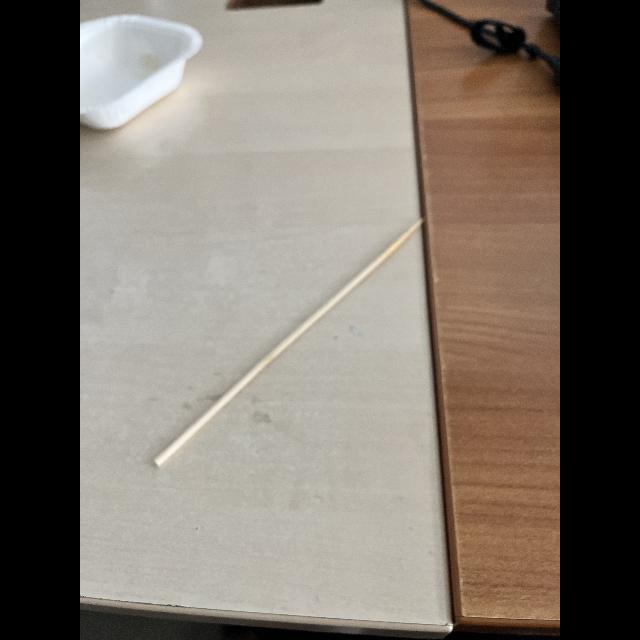cardboard_bowl: (80, 6, 216, 162)
stick: (135, 200, 445, 484)
